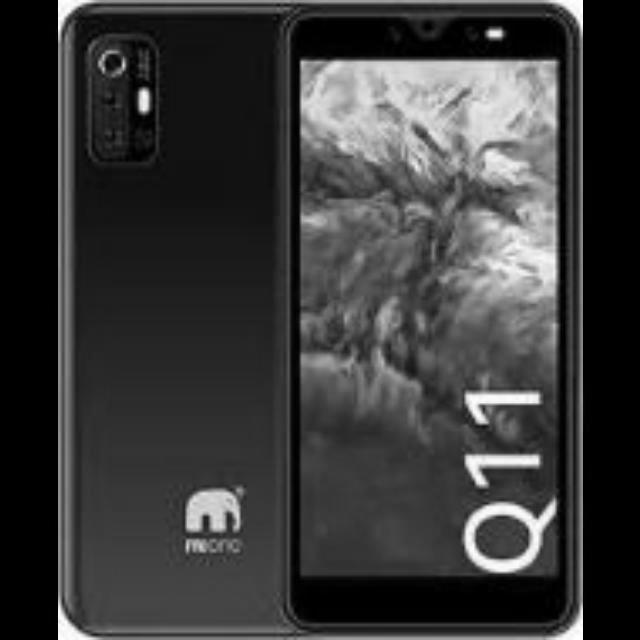fake: (282, 6, 600, 616), (57, 4, 315, 620)
